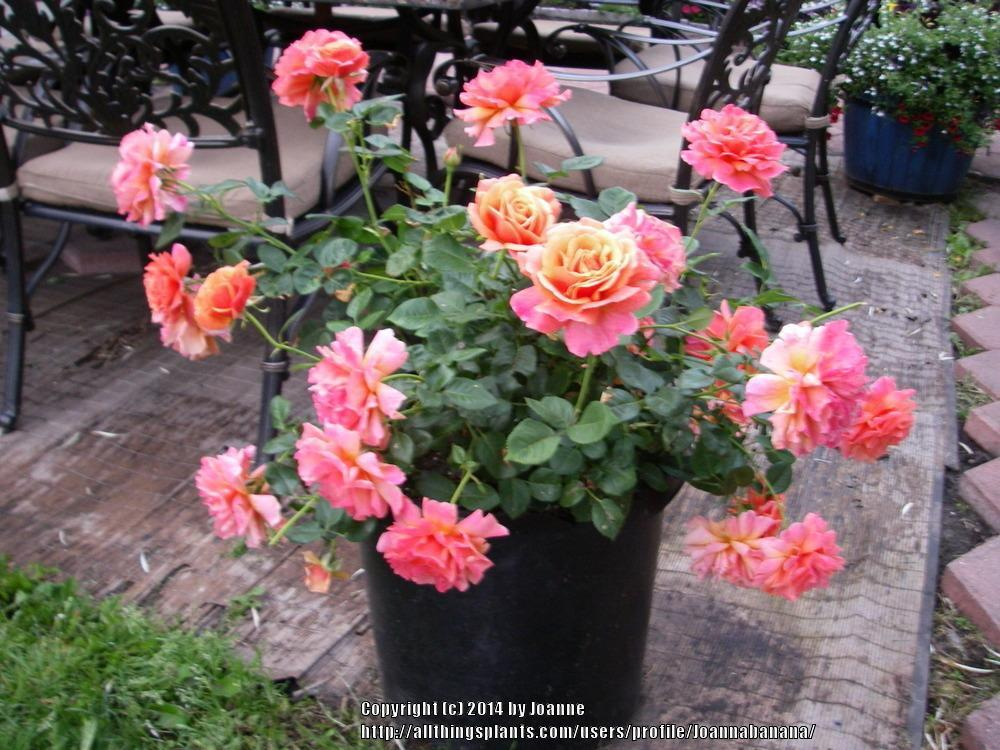Rose: (522, 222, 648, 346), (474, 172, 562, 243), (460, 62, 554, 125)
